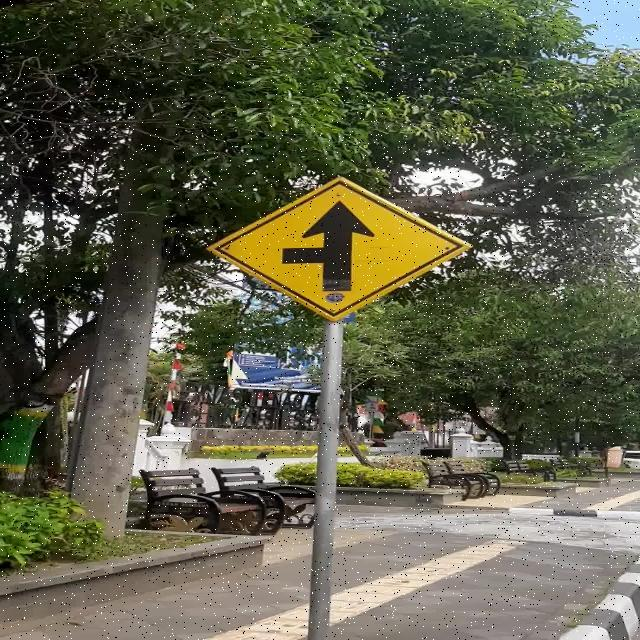Persimpangan 3 Prioritas Kiri: (204, 175, 474, 322)
